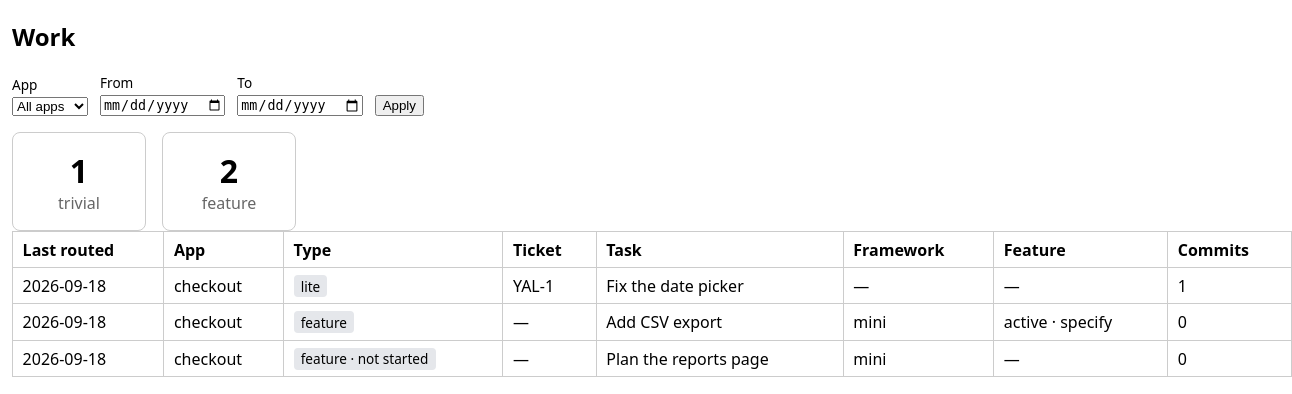
Scenario: Work › opens the routing detail on row click
Click the text "Add CSV export" at (720, 322), box [596,304,843,340]
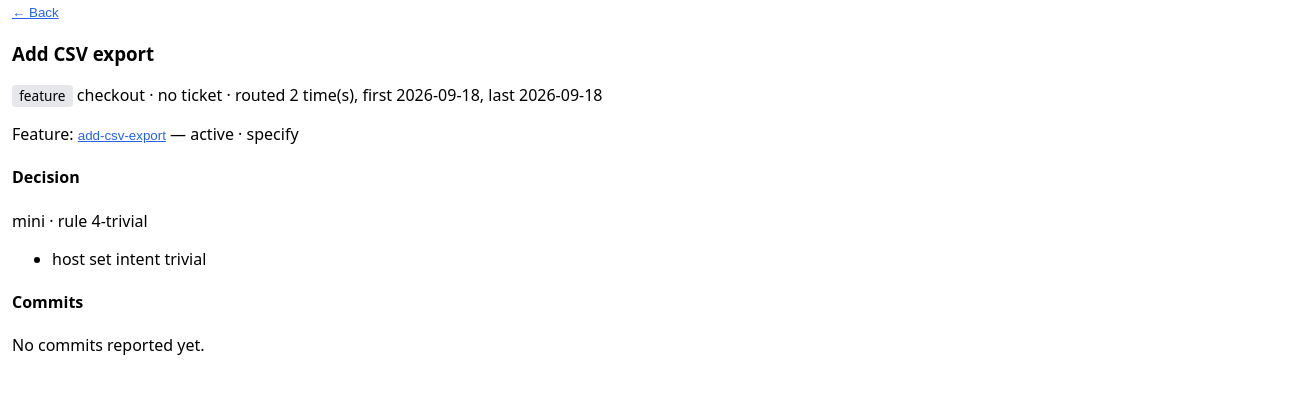
Now the text "No commits reported yet." is shown, box [12,334,204,356]
